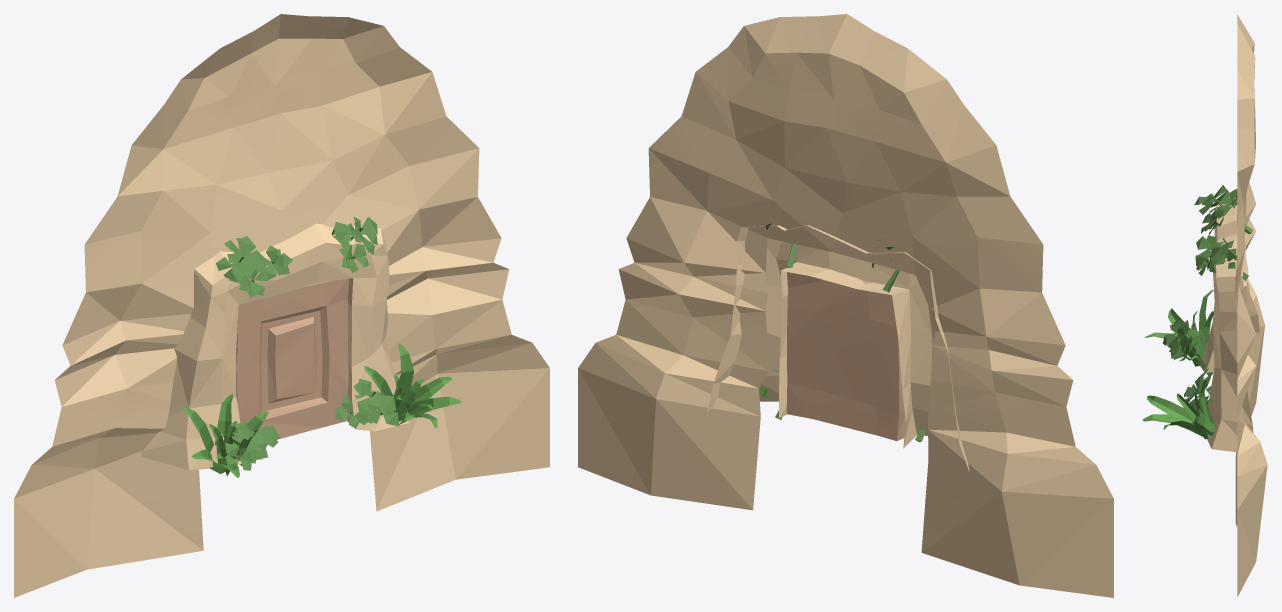
The model's file is seaCaveDoor.fbx.
3 views of the same model, side by side, from view 1: azimuth 30°, elevation 25°; view 2: azimuth 150°, elevation 25°; view 3: azimuth 270°, elevation 25° (orthographic). The views are drawn at different scales.
Visible parts, largest first — view 1: seaCaveDoor, singleDoor; view 2: seaCaveDoor, singleDoor; view 3: seaCaveDoor.
Part boxes in pixels (x1,y1,x2,y2): seaCaveDoor: (14,14,549,597); singleDoor: (236,278,348,439); seaCaveDoor: (578,14,1113,597); singleDoor: (786,272,905,440); seaCaveDoor: (1142,14,1267,596).
Bounding box in the file's own units: 12.78 × 11.85 × 2.93.
Materials: 3 (1 with a texture image).
